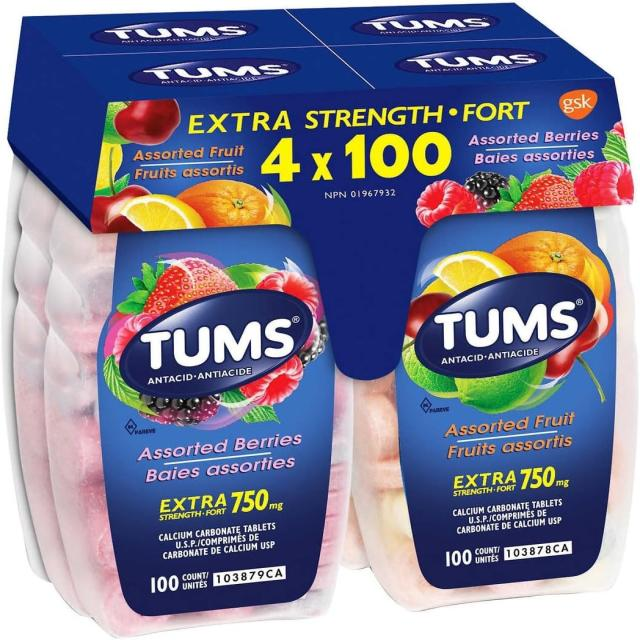medicine: (30, 15, 623, 592)
